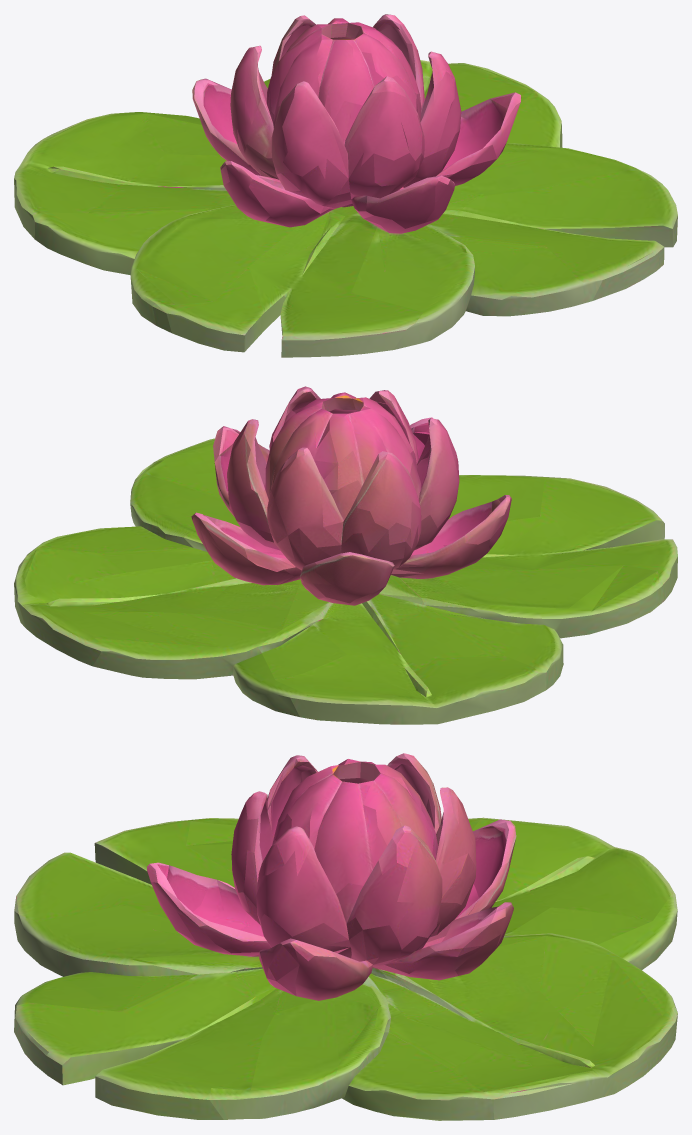
File: lily-pads-lotus.glb
3 renders of one model, top to bottom at view 1: azimuth 30°, elevation 25°; view 2: azimuth 150°, elevation 25°; view 3: azimuth 270°, elevation 25°, orthographic. The views are drawn at different scales.
Visible parts, largest first — view 1: mesh_node; view 2: mesh_node; view 3: mesh_node.
Part boxes in pixels (x1,y1,x2,y2): mesh_node: [14, 14, 677, 357]; mesh_node: [14, 386, 677, 724]; mesh_node: [14, 753, 677, 1120].
Bounding box in the file's own units: 1.9 × 0.7355 × 1.9.
1 material, 1 textured.
